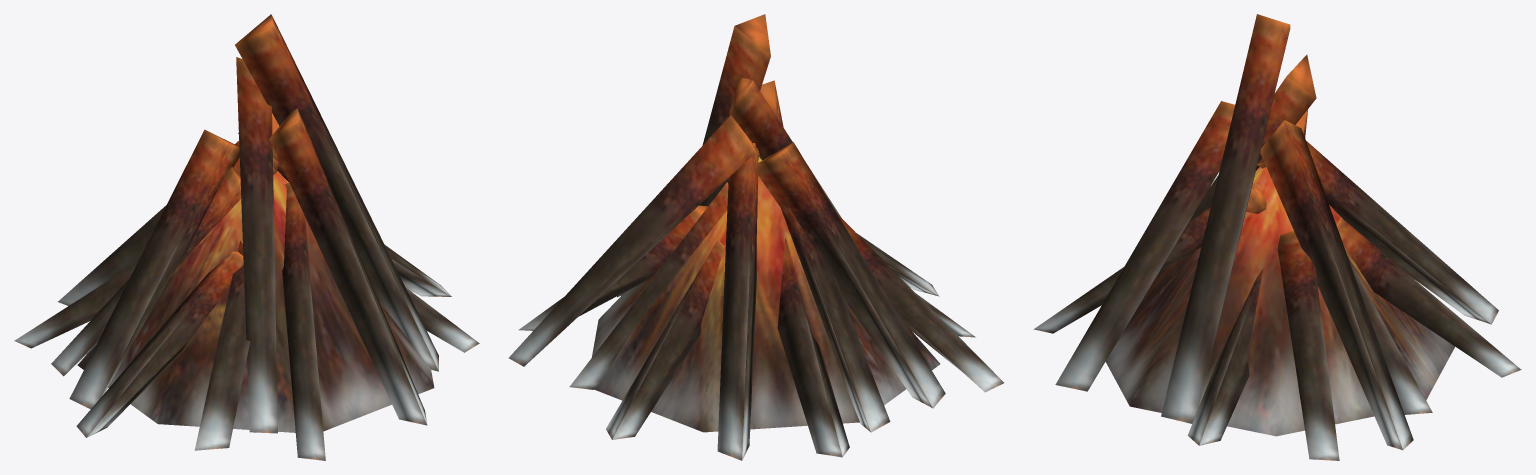
File: S7_new3d_xue_muhuo.FBX
3 renders of one model, left to right at view 1: azimuth 30°, elevation 25°; view 2: azimuth 150°, elevation 25°; view 3: azimuth 270°, elevation 25°, orthographic. The views are drawn at different scales.
Parts seen in each view (by area): view 1: S7_new3d_xue_huopen001; view 2: S7_new3d_xue_huopen001; view 3: S7_new3d_xue_huopen001.
Part boxes in pixels (left/top/right/bottom): S7_new3d_xue_huopen001: left=14, top=14, right=479, bottom=460; S7_new3d_xue_huopen001: left=509, top=14, right=1003, bottom=460; S7_new3d_xue_huopen001: left=1033, top=14, right=1521, bottom=460.
Size of the model in its own units: 26.41 by 20.29 by 26.1.
